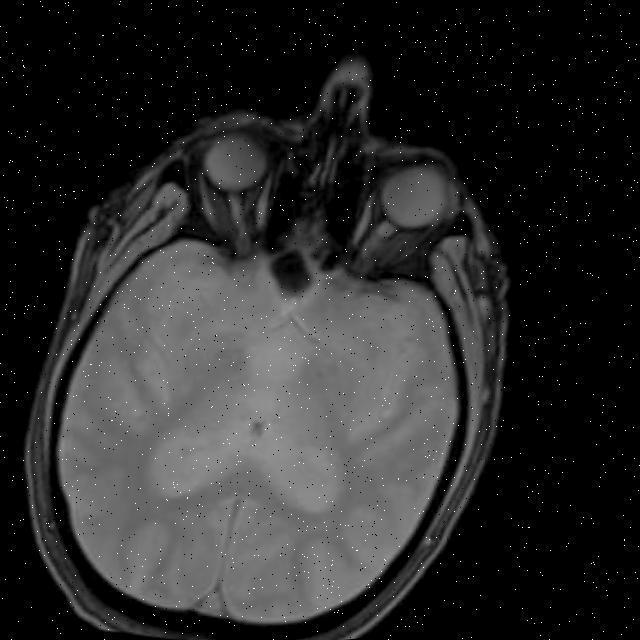LMCI: (278, 226, 312, 269)
